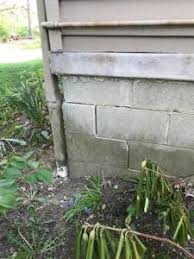stairstep_crack: (62, 99, 139, 172)
